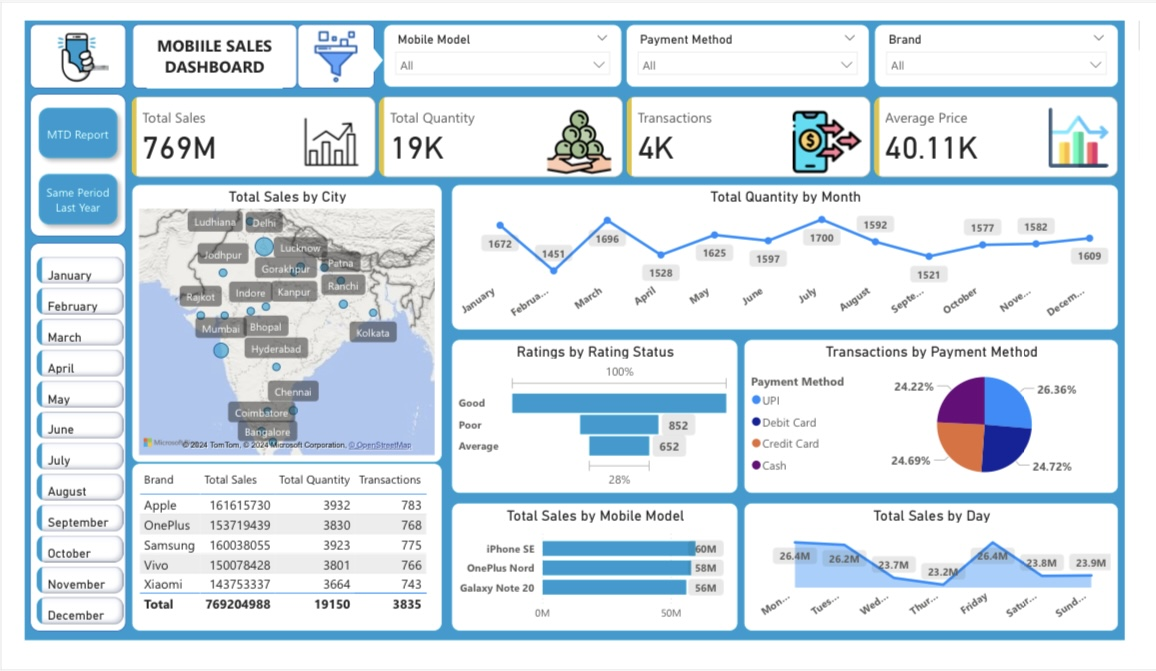

The dashboard page shown, as its layout file describes it:
{"tool":"powerbi","page":{"name":"Dashboard","canvas":[1280,720],"ordinal":0},"visuals":[{"type":"shape","box":[5.7,4.3,112,75.1],"z":0},{"type":"image","box":[18,0,85,85],"z":1000},{"type":"shape","box":[5.7,85,112,166],"z":2000},{"type":"shape","box":[5.7,258,112,452.1],"z":3000},{"type":"advancedSlicerVisual","fields":{"Values":["Custom Calender.Date.Variation.Date Hierarchy.Month"]},"box":[8.6,268.6,111.4,441.4],"z":4000},{"type":"cardVisual","fields":{"Data":["My Measure.Total Sales","My Measure.Total Quantity","My Measure.Total Transactions","My Measure.Average Price"]},"box":[119,83,1159.4,104],"z":5000},{"type":"slicer","fields":{"Values":["Sales Data.Mobile Model"]},"box":[416.7,4.3,278,73.7],"z":6000},{"type":"slicer","fields":{"Values":["Sales Data.Brand"]},"box":[987.9,4.3,284.9,73.7],"z":7000},{"type":"slicer","fields":{"Values":["Sales Data.Payment Method"]},"box":[698.7,4.3,284,73.7],"z":8000},{"type":"shape","box":[317.5,4.3,89.3,75.1],"z":9000},{"type":"image","box":[317.5,5.7,89.3,72.3],"z":10000},{"type":"shape","box":[386.9,26.9,29.8,38.3],"z":11000},{"type":"shape","box":[124.7,4.3,192.8,75.1],"z":12000},{"type":"textbox","box":[141.7,9.9,158.7,69.4],"z":13000},{"type":"map","fields":{"Category":["Sales Data.City"],"Size":["My Measure.Total Sales"]},"box":[124.3,190,361.4,324.3],"z":14000},{"type":"lineChart","fields":{"Category":["Custom Calender.Date.Variation.Date Hierarchy.Month"],"Y":["My Measure.Total Quantity"]},"box":[495.7,190,777,170],"z":15000},{"type":"funnel","title":"Ratings by Rating Status","fields":{"Y":["CountNonNull(Sales Data.Customer Ratings)"],"Category":["Sales Data.Rating Status"]},"box":[495.7,370,334.3,180],"z":16000},{"type":"pieChart","fields":{"Y":["My Measure.Total Transactions"],"Category":["Sales Data.Payment Method"]},"box":[836,370,437.1,180],"z":17000},{"type":"clusteredBarChart","fields":{"Y":["My Measure.Total Sales"],"Category":["Sales Data.Mobile Model"]},"box":[495.7,560,334.3,150],"z":18000},{"type":"areaChart","title":"Total Sales by Day","fields":{"Y":["My Measure.Total Sales"],"Category":["Custom Calender.Day Name"]},"box":[836,560,437.1,150],"z":19000},{"type":"tableEx","fields":{"Values":["Sales Data.Brand","My Measure.Total Sales","My Measure.Total Quantity","My Measure.Total Transactions"]},"box":[124.3,514.3,361.4,195.7],"z":20000},{"type":"pageNavigator","box":[7,92,110,155],"z":21000}]}

Visuals, with their boxes on the page's 1280x720 design canvas (x1, y1, x2, y2). These are canvas units, not pixel positions in the 1156x671 screenshot, which may show the page scaled, cropped or inside an application window:
shape: bbox=(6, 4, 118, 79)
image: bbox=(18, 0, 103, 85)
shape: bbox=(6, 85, 118, 251)
shape: bbox=(6, 258, 118, 710)
advancedSlicerVisual - Custom Calender.Date.Variation.Date Hierarchy.Month: bbox=(9, 269, 120, 710)
cardVisual - My Measure.Total Sales x My Measure.Total Quantity: bbox=(119, 83, 1278, 187)
slicer - Sales Data.Mobile Model: bbox=(417, 4, 695, 78)
slicer - Sales Data.Brand: bbox=(988, 4, 1273, 78)
slicer - Sales Data.Payment Method: bbox=(699, 4, 983, 78)
shape: bbox=(318, 4, 407, 79)
image: bbox=(318, 6, 407, 78)
shape: bbox=(387, 27, 417, 65)
shape: bbox=(125, 4, 318, 79)
textbox: bbox=(142, 10, 300, 79)
map - Sales Data.City x My Measure.Total Sales: bbox=(124, 190, 486, 514)
lineChart - Custom Calender.Date.Variation.Date Hierarchy.Month x My Measure.Total Quantity: bbox=(496, 190, 1273, 360)
"Ratings by Rating Status" funnel: bbox=(496, 370, 830, 550)
pieChart - My Measure.Total Transactions x Sales Data.Payment Method: bbox=(836, 370, 1273, 550)
clusteredBarChart - My Measure.Total Sales x Sales Data.Mobile Model: bbox=(496, 560, 830, 710)
"Total Sales by Day" areaChart: bbox=(836, 560, 1273, 710)
tableEx - Sales Data.Brand x My Measure.Total Sales: bbox=(124, 514, 486, 710)
pageNavigator: bbox=(7, 92, 117, 247)
